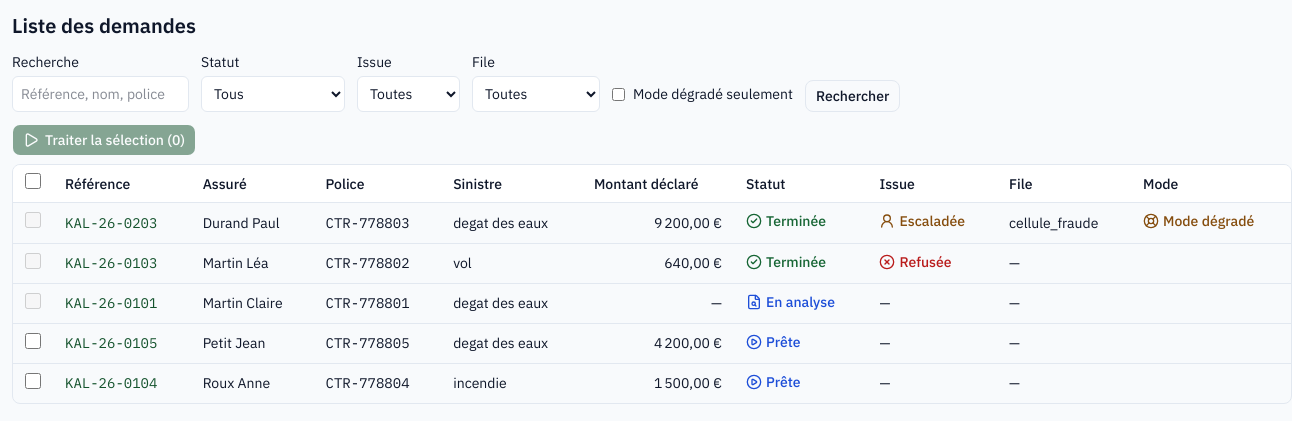
Test case: E1 · Liste des demandes › tout sélectionner coche les dossiers prêts visibles
Click the checkbox named "Tout sélectionner" at (33, 181), box [25,173,41,189]
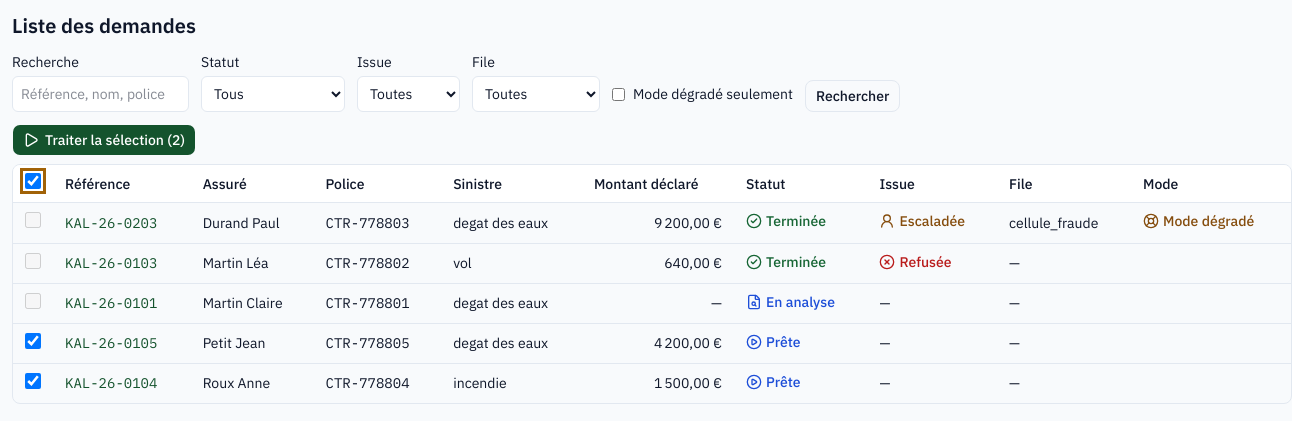
Now the button "Traiter la sélection (2)" is enabled, box [12,124,196,156]
Click the checkbox named "Tout sélectionner" at (33, 181), box [25,173,41,189]
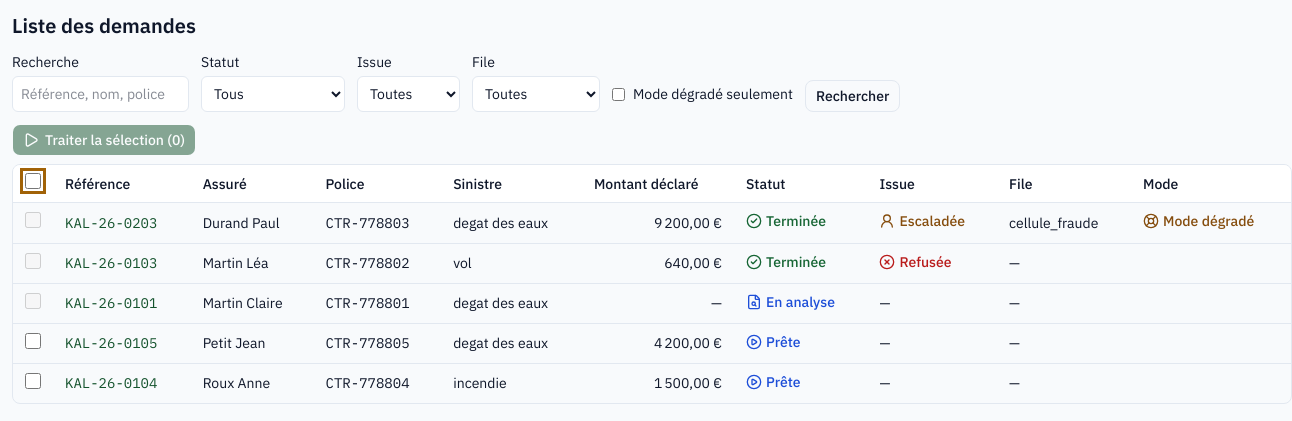
Now the button "Traiter la sélection (0)" is disabled, box [12,124,196,156]
